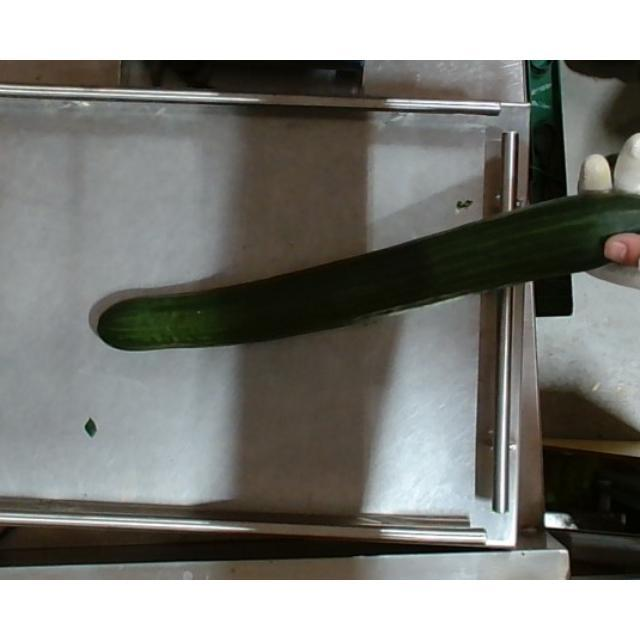cucumber: (96, 190, 640, 350)
